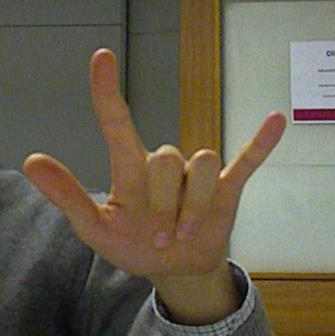back: (18, 47, 289, 288)
